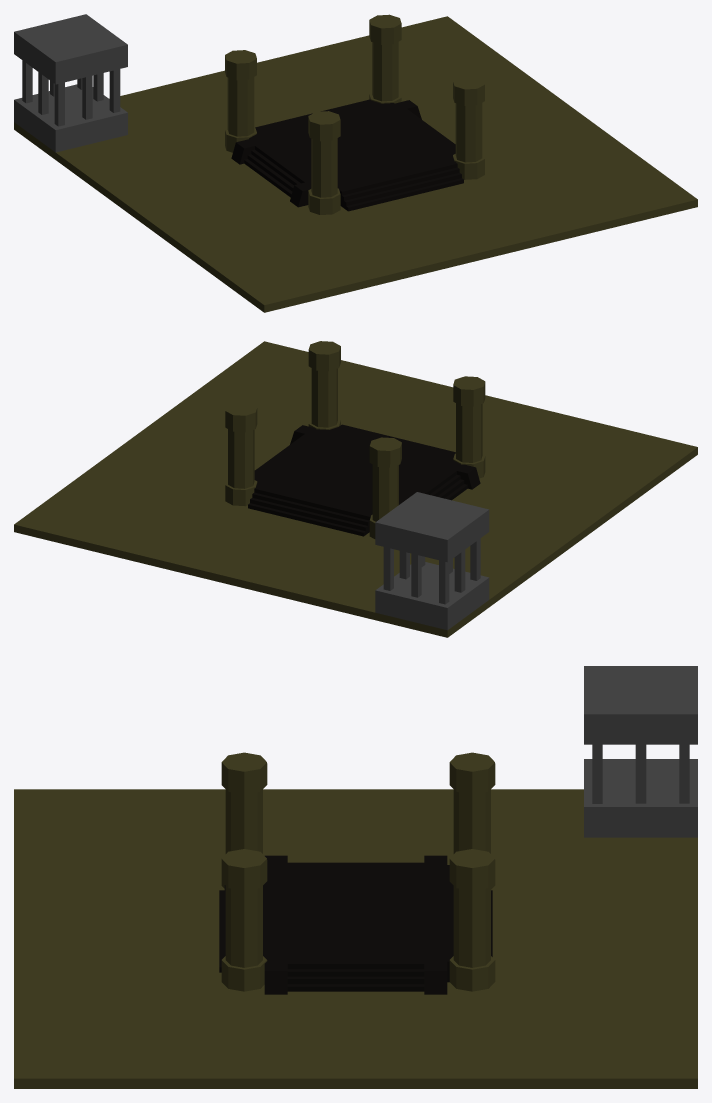
3 views of the same model, one above another, from view 1: azimuth 30°, elevation 25°; view 2: azimuth 150°, elevation 25°; view 3: azimuth 270°, elevation 25° (orthographic). The views are drawn at different scales.
Parts seen in each view (by area): view 1: Floor, cage, wallEarth02, pillar01.003, pillar01.002, wallSteps.001, pillar01, pillar01.001, wallSteps; view 2: Floor, cage, wallEarth02, pillar01.001, wallSteps.002, pillar01.003, pillar01.002, pillar01, wallSteps; view 3: Floor, cage, wallEarth02, pillar01.001, pillar01.002, wallSteps.003, pillar01, pillar01.003, wallStone03.002, wallStone03.001.
Boxes of the visible parts, left/top/right/bottom form: Floor: left=14, top=16, right=697, bottom=312; cage: left=14, top=14, right=127, bottom=152; wallEarth02: left=249, top=101, right=455, bottom=191; pillar01.003: left=308, top=111, right=340, bottom=214; pillar01.002: left=453, top=76, right=484, bottom=179; wallSteps.001: left=340, top=162, right=463, bottom=211; pillar01: left=225, top=50, right=256, bottom=152; pillar01.001: left=369, top=14, right=401, bottom=103; wallSteps: left=244, top=145, right=308, bottom=197; Floor: left=14, top=341, right=697, bottom=637; cage: left=375, top=492, right=489, bottom=630; wallEarth02: left=254, top=426, right=460, bottom=514; pillar01.001: left=225, top=402, right=257, bottom=506; wallSteps.002: left=248, top=487, right=371, bottom=536; pillar01.003: left=453, top=376, right=485, bottom=478; pillar01.002: left=308, top=341, right=340, bottom=429; pillar01: left=369, top=437, right=401, bottom=538; wallSteps: left=422, top=470, right=467, bottom=500; Floor: left=14, top=789, right=697, bottom=1088; cage: left=584, top=666, right=697, bottom=837; wallEarth02: left=263, top=865, right=453, bottom=982; pillar01.001: left=449, top=849, right=495, bottom=991; pillar01.002: left=221, top=849, right=267, bottom=991; wallSteps.003: left=287, top=961, right=424, bottom=991; pillar01: left=449, top=752, right=495, bottom=889; pillar01.003: left=221, top=752, right=267, bottom=888; wallStone03.002: left=424, top=961, right=447, bottom=994; wallStone03.001: left=264, top=961, right=287, bottom=994.
Size of the model in its own units: 6000 by 1295 by 6000.
